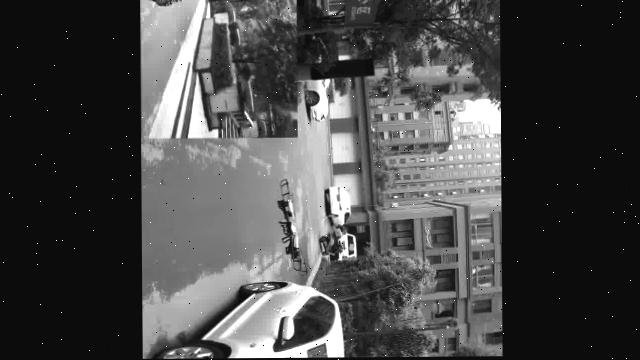drone: (274, 179, 317, 274)
